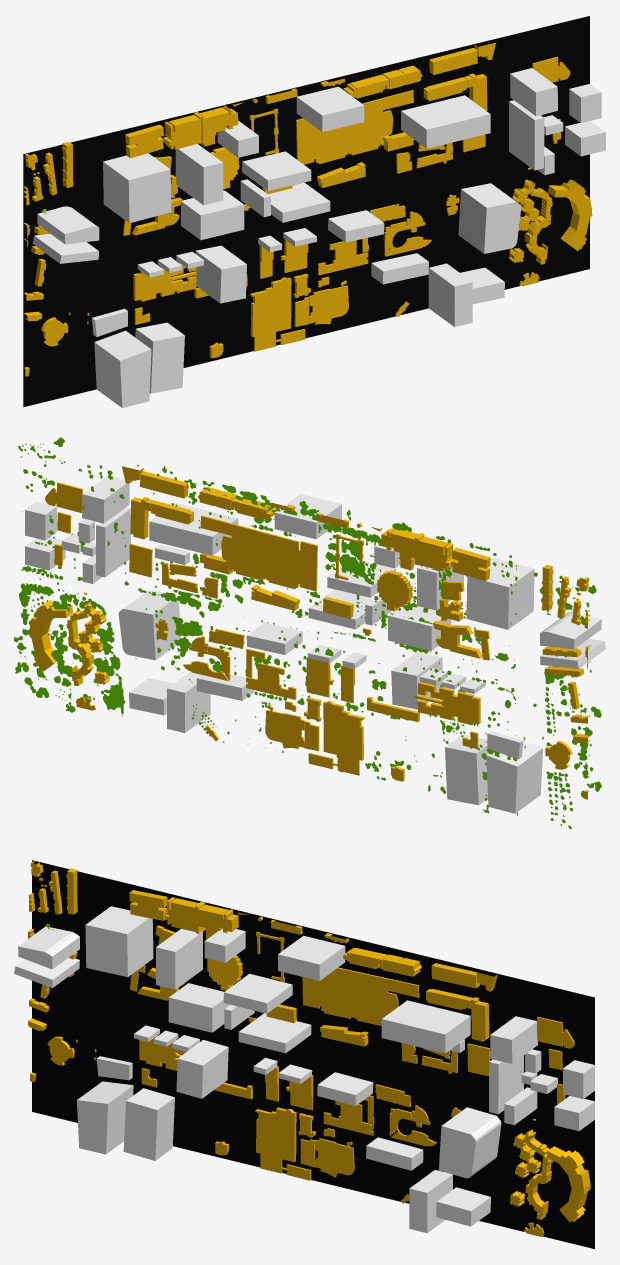
Rendered from new_high_buildings_08.glb.
3 renders of one model, top to bottom at view 1: azimuth 30°, elevation 25°; view 2: azimuth 150°, elevation 25°; view 3: azimuth 330°, elevation 25°, orthographic.
Parts seen in each view (by area): view 1: Layer 04, new buildings, existing_building - Copy; view 2: new buildings, existing_building - Copy, treesurface; view 3: Layer 04, new buildings, existing_building - Copy.
Part boxes in pixels (box(x1,y1,x2,y2)): Layer 04: box(23, 16, 589, 407); new buildings: box(32, 68, 605, 407); existing_building - Copy: box(24, 42, 592, 376); new buildings: box(25, 476, 605, 813); existing_building - Copy: box(29, 466, 591, 799); treesurface: box(14, 437, 601, 828); Layer 04: box(32, 860, 594, 1248); new buildings: box(14, 906, 594, 1233); existing_building - Copy: box(28, 861, 590, 1236).
Size of the model in its own units: 1035 by 458 by 84.18.
